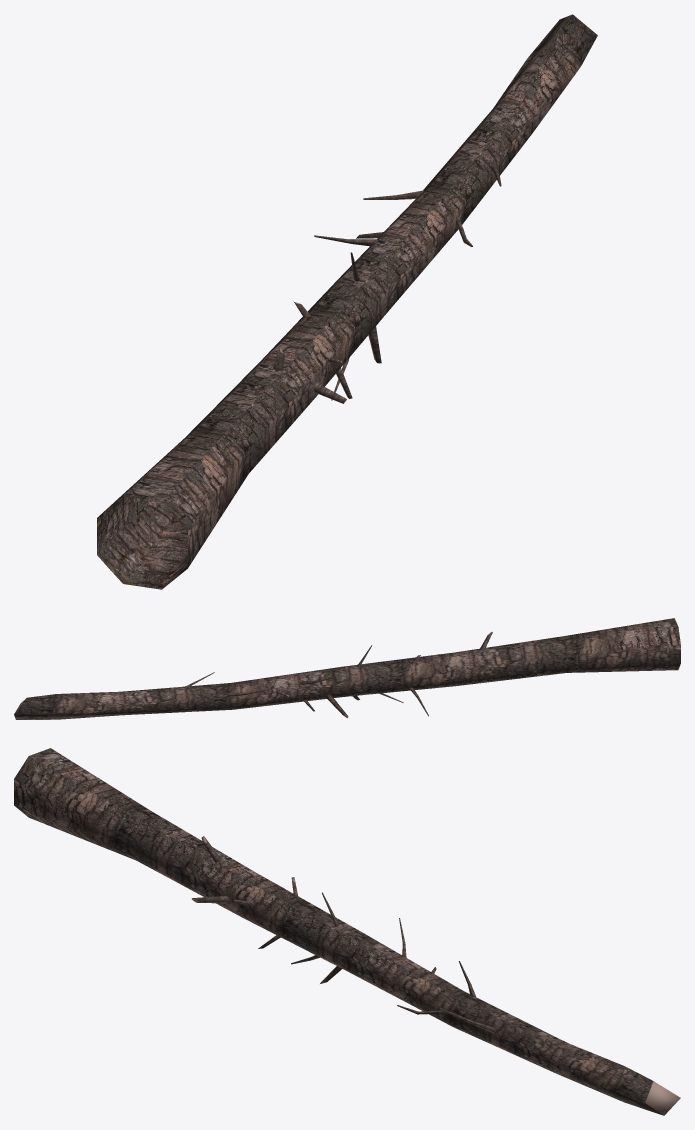
The model's file is dead_log_0_lod2.glb.
The picture shows the model from 3 angles, top to bottom: view 1: azimuth 30°, elevation 25°; view 2: azimuth 150°, elevation 25°; view 3: azimuth 270°, elevation 25°; orthographic projection. The views are drawn at different scales.
Parts seen in each view (by area): view 1: Coniferous Dead Log; view 2: Coniferous Dead Log; view 3: Coniferous Dead Log.
Part boxes in pixels (box(x1,y1,x2,y2)): Coniferous Dead Log: box(97, 14, 597, 589); Coniferous Dead Log: box(14, 618, 680, 719); Coniferous Dead Log: box(14, 748, 680, 1115).
Size of the model in its own units: 5.88 by 0.7774 by 5.28.
Materials: 1 (1 with a texture image).
